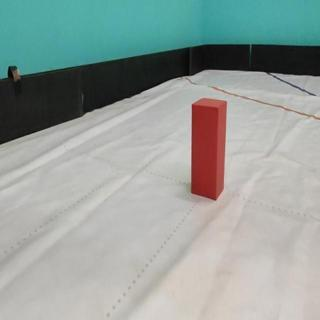redbox: (191, 95, 227, 201)
